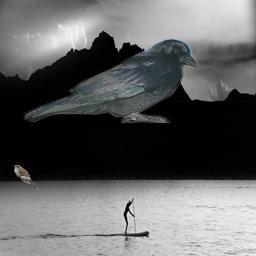Crow: (23, 38, 199, 123)
Cuckoo: (13, 165, 39, 190)
